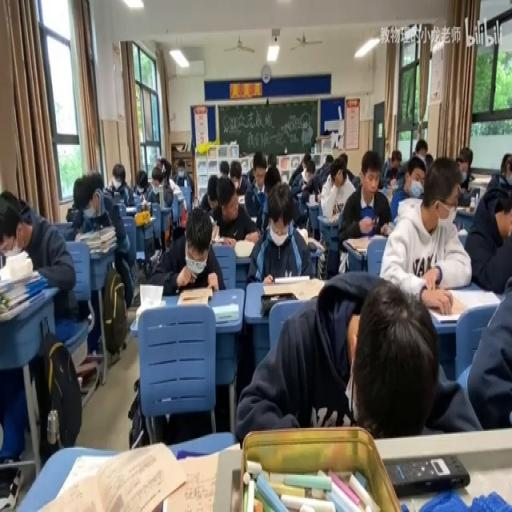calculator: (32, 455, 114, 511), (157, 448, 227, 509), (0, 268, 39, 294), (177, 286, 212, 306), (346, 234, 376, 254), (138, 283, 163, 307), (212, 300, 238, 322), (233, 238, 254, 258), (0, 245, 23, 263), (213, 234, 238, 248), (307, 236, 326, 253), (274, 273, 308, 282), (397, 198, 414, 216), (133, 215, 154, 226), (295, 224, 307, 242), (325, 212, 341, 225), (148, 249, 160, 266), (454, 205, 474, 215), (469, 186, 479, 206), (382, 186, 393, 204), (210, 222, 219, 242), (370, 233, 388, 243), (307, 199, 320, 209), (125, 205, 136, 215), (466, 176, 475, 188), (456, 228, 466, 238), (236, 195, 245, 205), (248, 215, 258, 223), (112, 192, 119, 201)
paper: (236, 270, 474, 442), (379, 156, 472, 308), (0, 186, 77, 322), (68, 170, 130, 318), (466, 270, 512, 428), (246, 183, 316, 283), (147, 200, 223, 292), (336, 148, 393, 266), (464, 158, 512, 293), (208, 176, 258, 248), (452, 146, 475, 204), (104, 161, 134, 205), (288, 154, 314, 198), (311, 155, 339, 195), (245, 152, 268, 199), (380, 148, 402, 188), (173, 155, 193, 196), (134, 166, 154, 202), (0, 189, 24, 218), (204, 173, 218, 202), (499, 154, 512, 182), (412, 138, 427, 161), (157, 156, 170, 182), (264, 174, 279, 196), (19, 203, 32, 225), (230, 164, 242, 186), (218, 160, 229, 176), (133, 192, 142, 210), (338, 152, 347, 168), (424, 152, 433, 168), (102, 184, 114, 196), (152, 175, 162, 188), (266, 154, 277, 165), (246, 170, 254, 184), (324, 154, 334, 164)
person: (385, 454, 470, 496), (259, 293, 298, 314)
